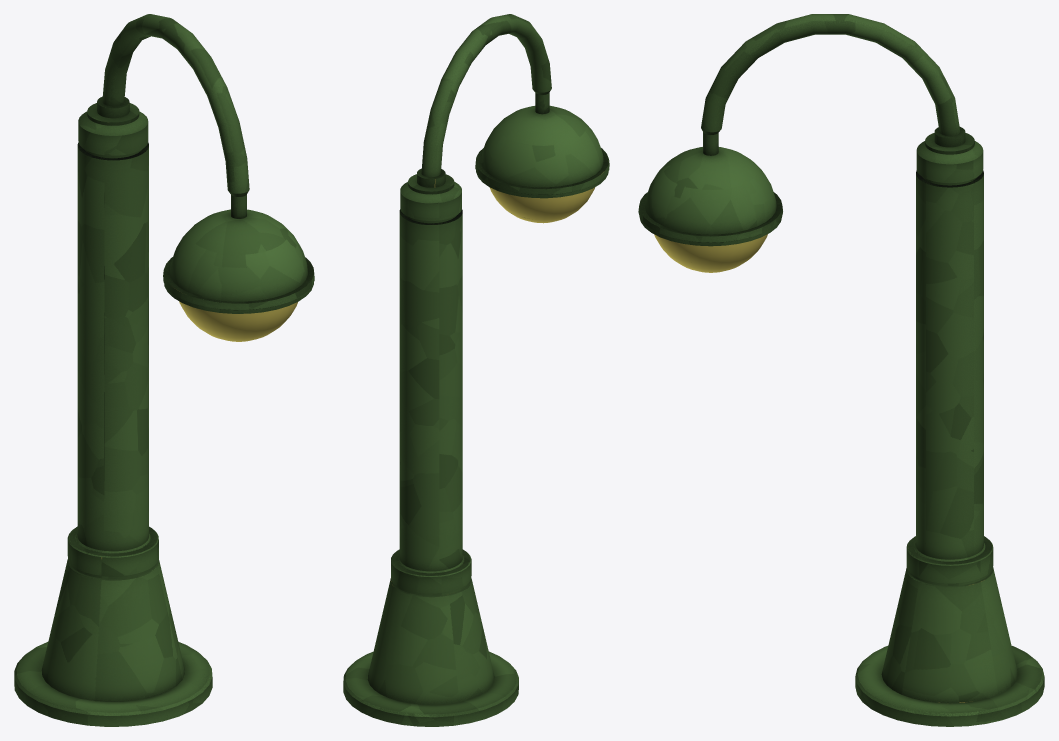
File: FAROLA.fbx
3 views of the same model, side by side, from view 1: azimuth 30°, elevation 25°; view 2: azimuth 150°, elevation 25°; view 3: azimuth 270°, elevation 25° (orthographic). The views are drawn at different scales.
Visible parts, largest first — view 1: FAROLA_Baked; view 2: FAROLA_Baked; view 3: FAROLA_Baked.
Boxes of the visible parts, x1,y1,x2,y2 form: FAROLA_Baked: (14, 14, 314, 726); FAROLA_Baked: (343, 14, 609, 726); FAROLA_Baked: (638, 14, 1044, 726).
Bounding box in the file's own units: 102 × 399 × 219.
Materials: 1 (1 with a texture image).
